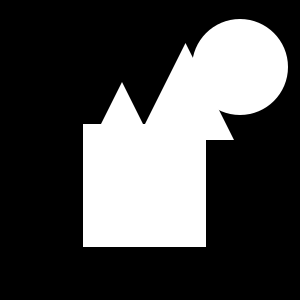circle: (83, 124, 206, 247), (238, 26, 245, 33)
rectangle: (192, 19, 288, 115)
triangle: (137, 43, 234, 140), (87, 82, 157, 152)
